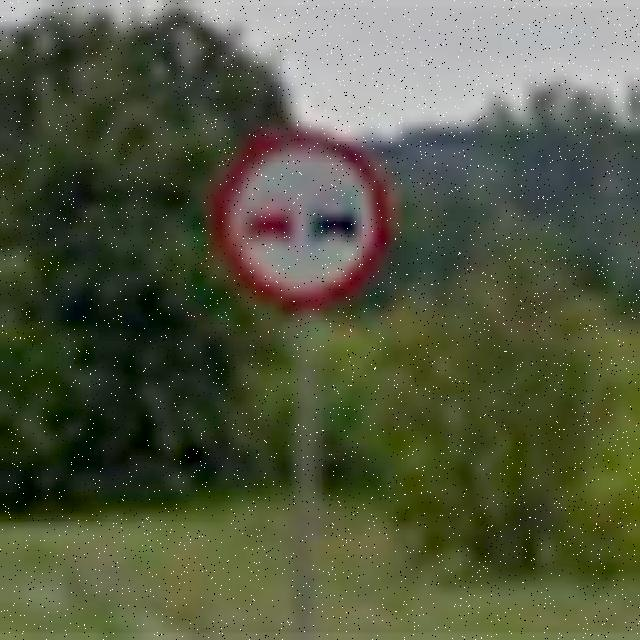Zakaz wyprzedzania: (206, 127, 392, 310)
